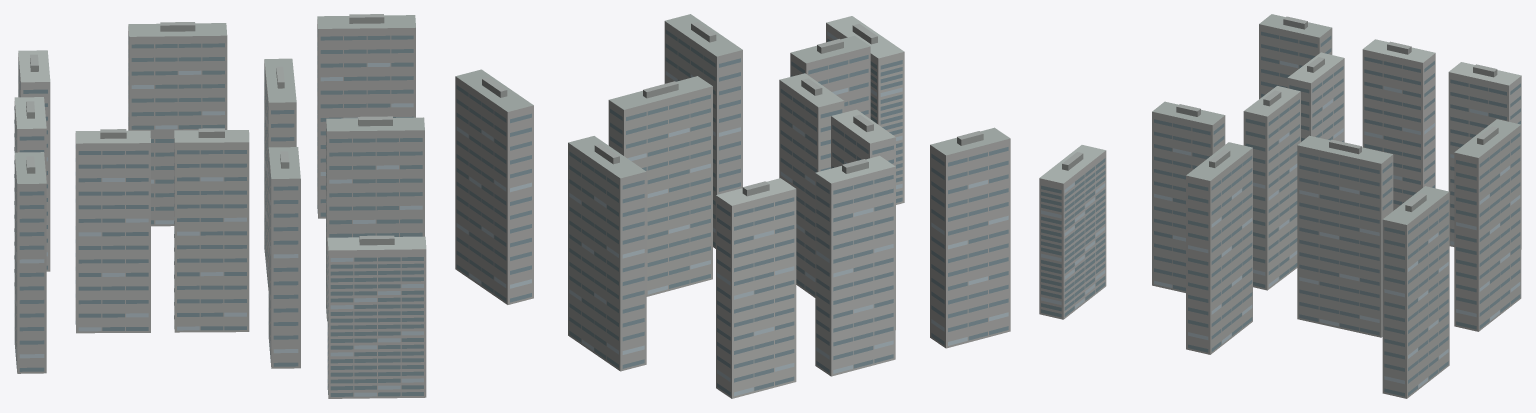
Rendered from apt-a13381608.glb.
The picture shows the model from 3 angles, left to right: view 1: azimuth 30°, elevation 25°; view 2: azimuth 150°, elevation 25°; view 3: azimuth 270°, elevation 25°; orthographic projection. The views are drawn at different scales.
Visible parts, largest first — view 1: apt-a13381608; view 2: apt-a13381608; view 3: apt-a13381608.
Part boxes in pixels (left/top/right/bottom): apt-a13381608: left=14, top=14, right=426, bottom=398; apt-a13381608: left=455, top=14, right=1010, bottom=398; apt-a13381608: left=1039, top=14, right=1521, bottom=398.
Bounding box in the file's own units: 192 × 76 × 185.
